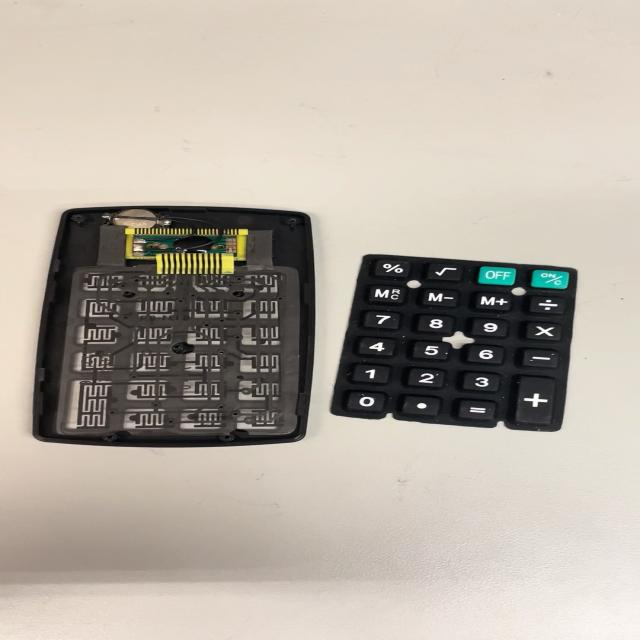front_panel: (27, 196, 324, 454)
number_pad: (335, 240, 582, 435)
